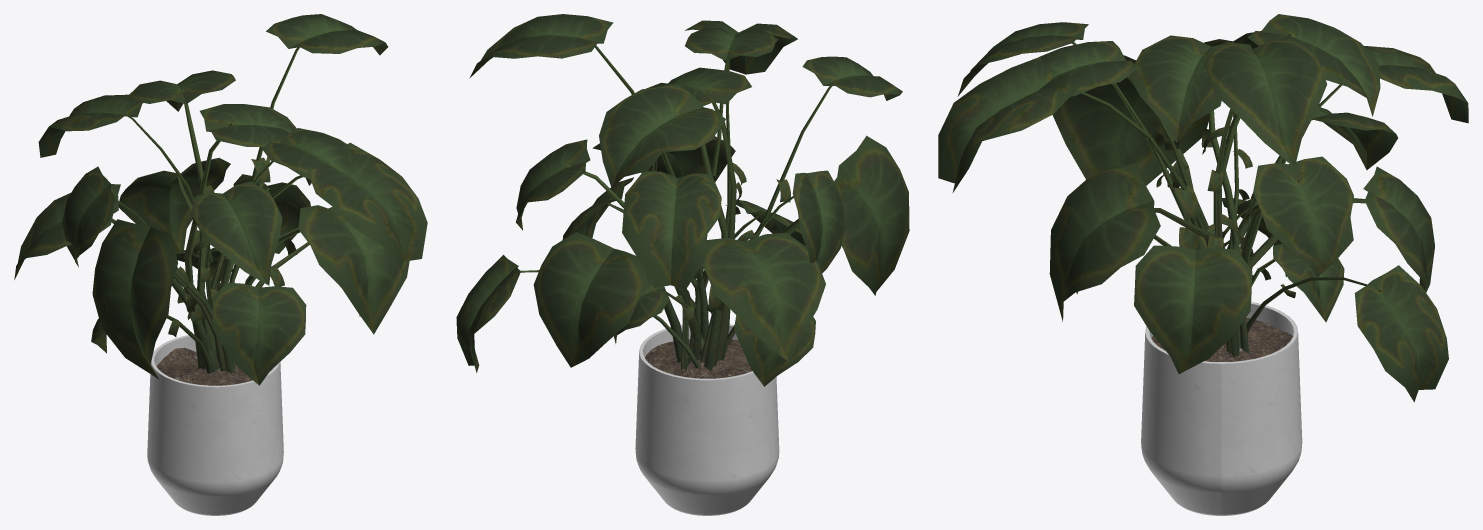
The model's file is SM_Plant.fbx.
The picture shows the model from 3 angles, left to right: view 1: azimuth 30°, elevation 25°; view 2: azimuth 150°, elevation 25°; view 3: azimuth 270°, elevation 25°; orthographic projection. The views are drawn at different scales.
Parts seen in each view (by area): view 1: SM_Plant_LOD0; view 2: SM_Plant_LOD0; view 3: SM_Plant_LOD0.
Boxes of the visible parts, <box> form: SM_Plant_LOD0: <box>14,14,427,515</box>; SM_Plant_LOD0: <box>456,14,909,515</box>; SM_Plant_LOD0: <box>938,14,1468,515</box>.
Bounding box in the file's own units: 91.35 × 104 × 110.
